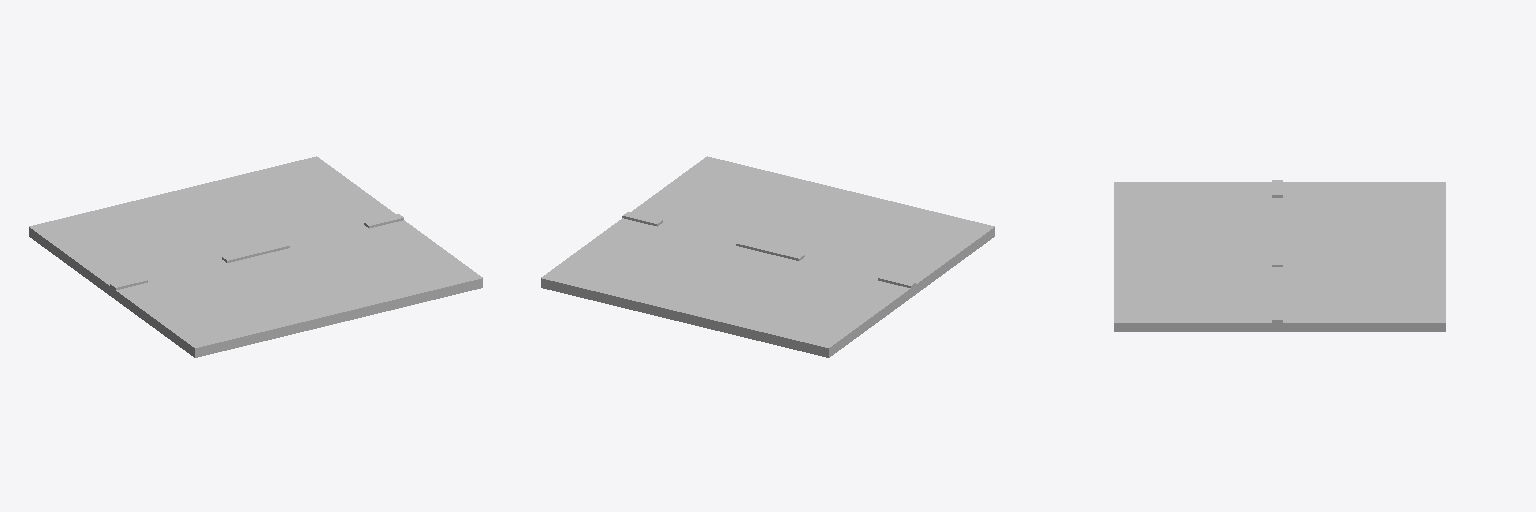
The model's file is tile carretera.obj.
3 views of the same model, side by side, from view 1: azimuth 30°, elevation 25°; view 2: azimuth 150°, elevation 25°; view 3: azimuth 270°, elevation 25° (orthographic).
Visible parts, largest first — view 1: object 1; view 2: object 1; view 3: object 1.
Boxes of the visible parts, <box> form: object 1: <box>29,156,482,357</box>; object 1: <box>541,156,994,357</box>; object 1: <box>1114,180,1445,331</box>.
Size of the model in its own units: 12.4 by 0.5 by 12.4.